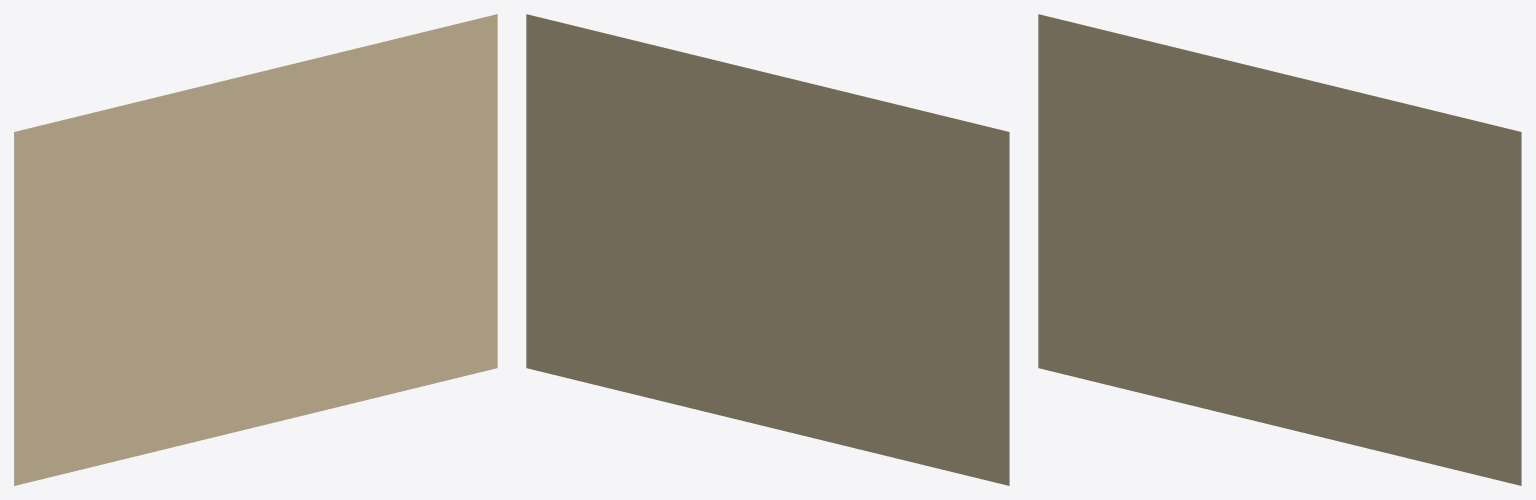
Rendered from StampMap_blockout.glb.
3 renders of one model, left to right at view 1: azimuth 30°, elevation 25°; view 2: azimuth 150°, elevation 25°; view 3: azimuth 330°, elevation 25°, orthographic.
Parts seen in each view (by area): view 1: PRP05_StampMap_FoldPanel0_L0, PRP05_StampMap_FoldPanel1_L0, PRP05_StampMap_FoldPanel2_L0; view 2: PRP05_StampMap_FoldPanel0_L0, PRP05_StampMap_FoldPanel1_L0, PRP05_StampMap_FoldPanel2_L0; view 3: PRP05_StampMap_FoldPanel1_L0, PRP05_StampMap_FoldPanel2_L0, PRP05_StampMap_FoldPanel0_L0.
Boxes of the visible parts, x1,y1,x2,y2 form: PRP05_StampMap_FoldPanel0_L0: (14,92,175,485); PRP05_StampMap_FoldPanel1_L0: (175,53,336,446); PRP05_StampMap_FoldPanel2_L0: (336,14,497,407); PRP05_StampMap_FoldPanel0_L0: (848,92,1009,485); PRP05_StampMap_FoldPanel1_L0: (687,53,848,446); PRP05_StampMap_FoldPanel2_L0: (526,14,687,407); PRP05_StampMap_FoldPanel1_L0: (1199,53,1360,446); PRP05_StampMap_FoldPanel2_L0: (1360,92,1521,485); PRP05_StampMap_FoldPanel0_L0: (1038,14,1199,407).
Bounding box in the file's own units: 0.3 × 0.21 × 0.0003.
